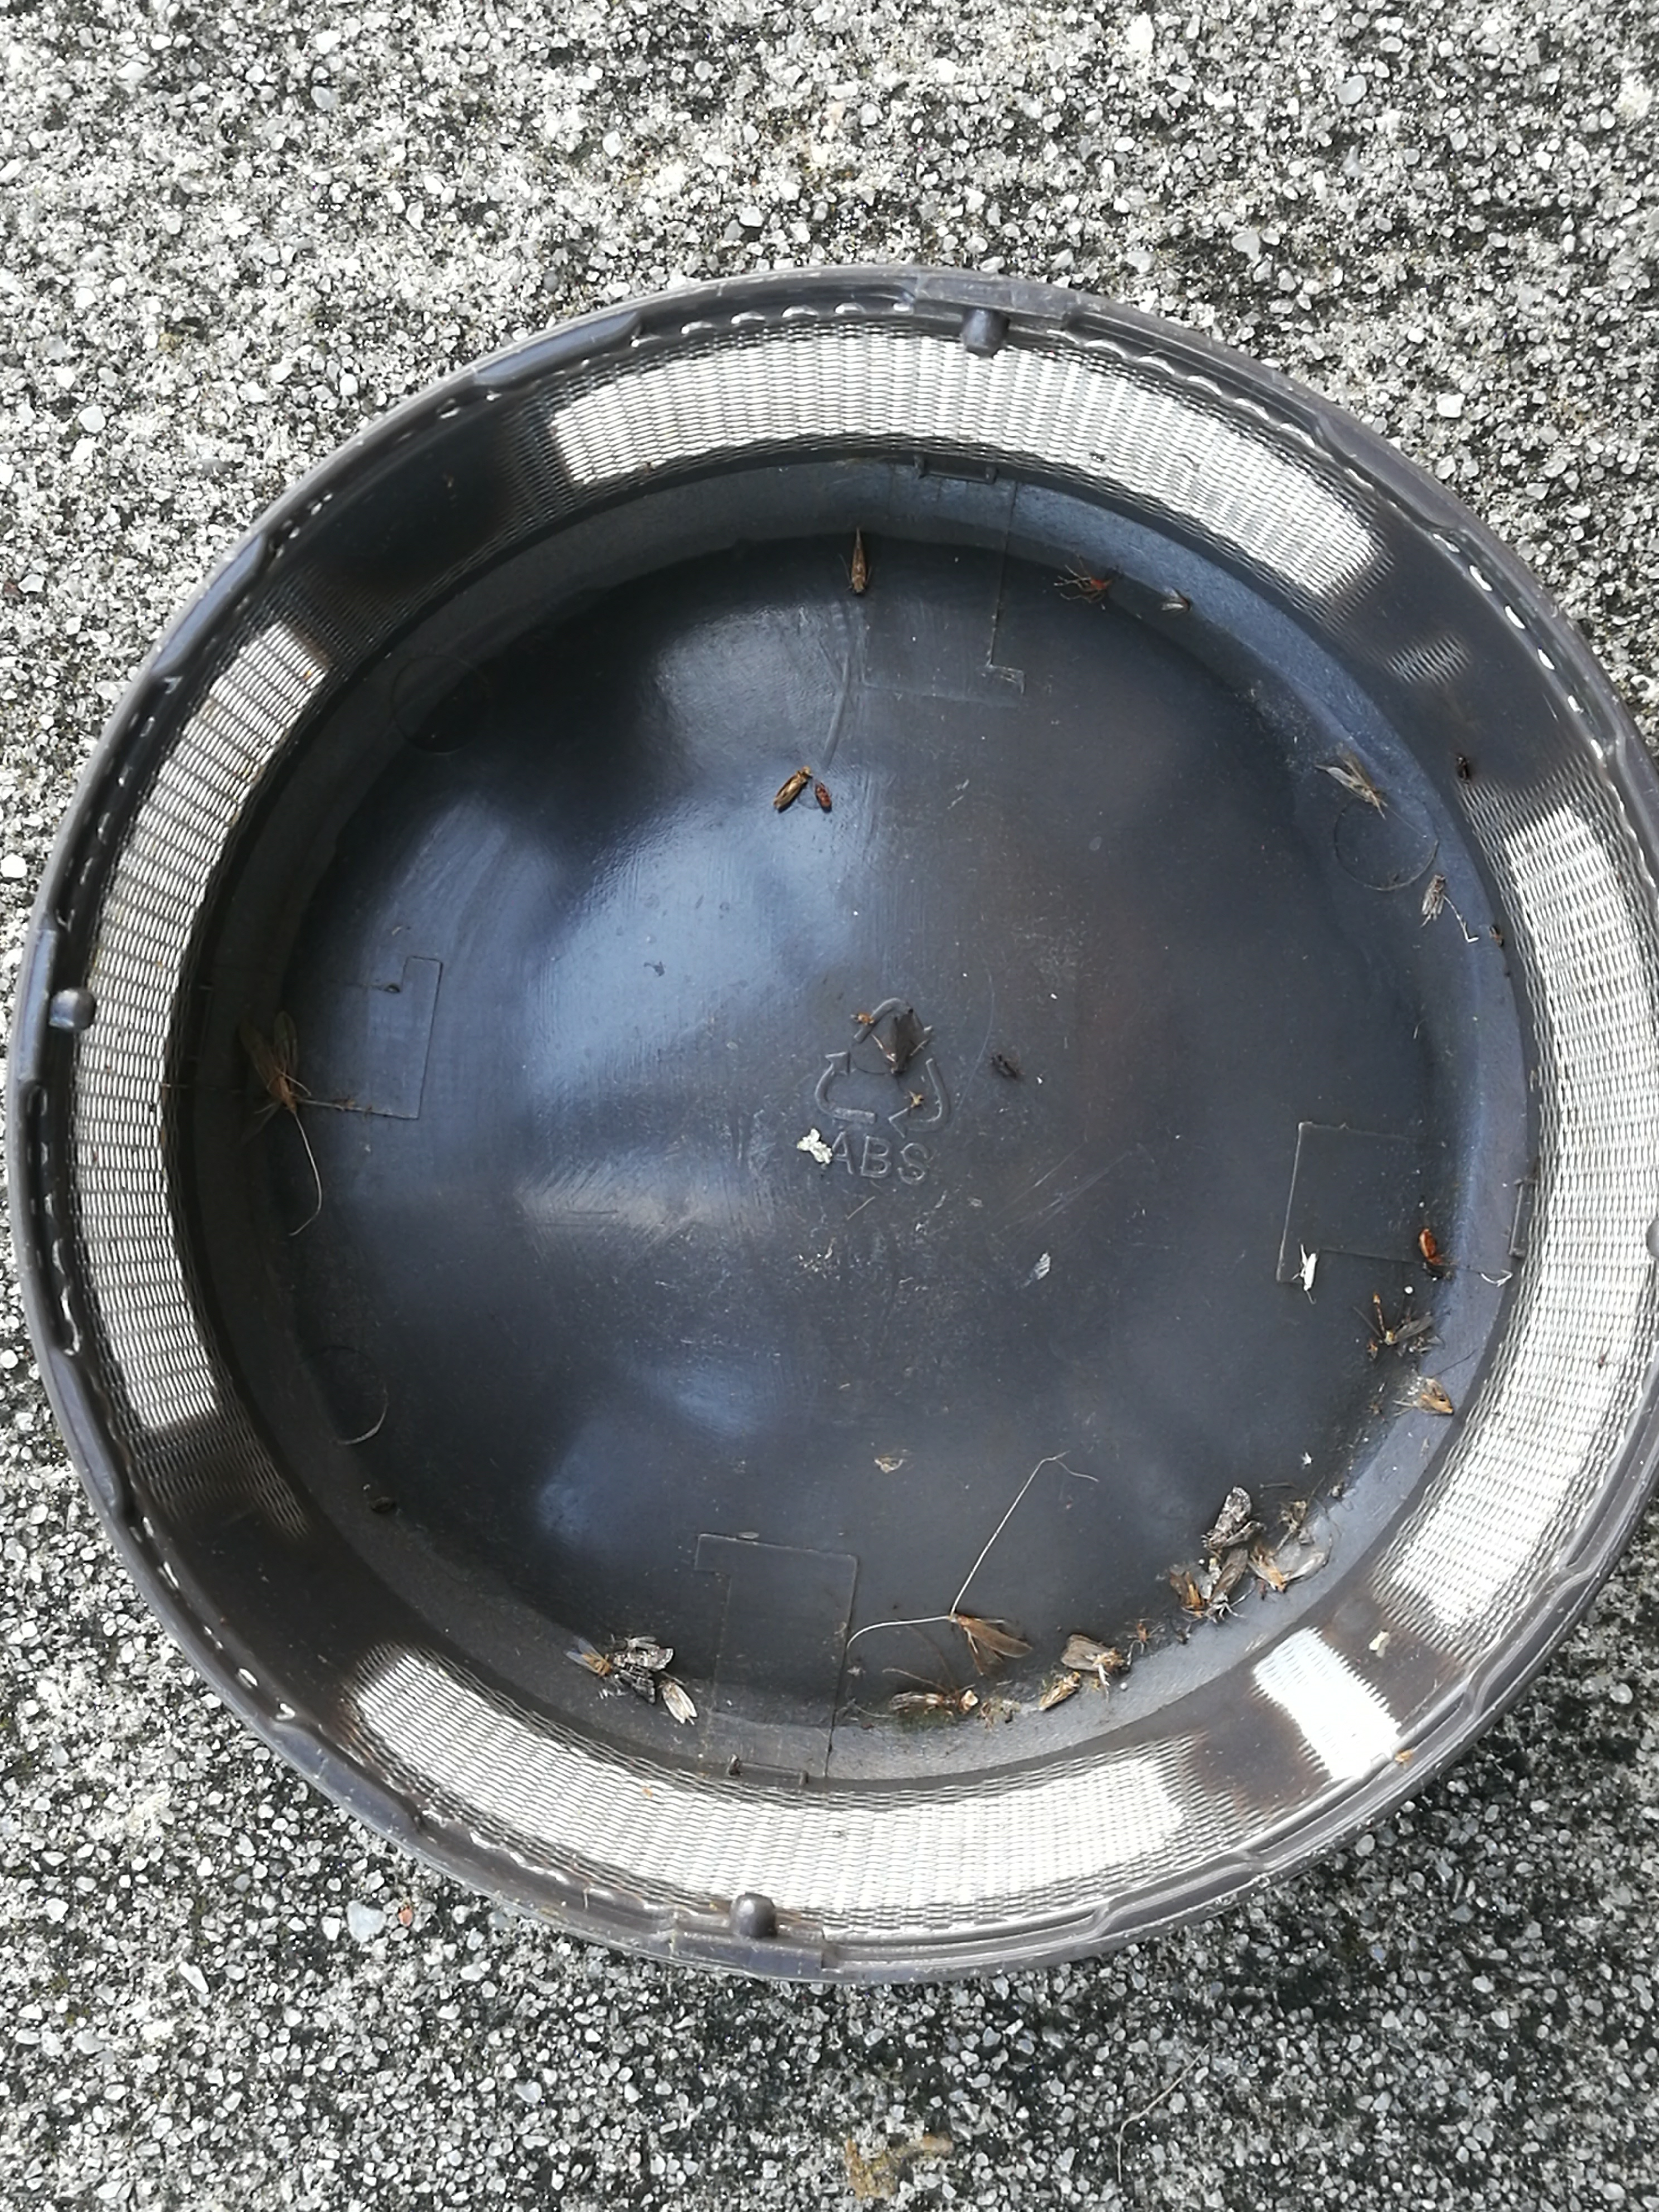mosquito: (950, 1615, 1032, 1656), (1326, 754, 1382, 805), (890, 1008, 917, 1075), (777, 768, 809, 810), (1042, 1674, 1079, 1709), (889, 1691, 955, 1710), (1171, 1566, 1199, 1609), (1211, 1566, 1237, 1602), (1424, 874, 1445, 913), (852, 531, 864, 594), (1303, 1254, 1317, 1291)
moth: (239, 1012, 300, 1113), (1182, 1547, 1246, 1611), (615, 1648, 673, 1703), (1209, 1489, 1265, 1547), (1060, 1634, 1127, 1672), (1403, 1374, 1453, 1416), (565, 1641, 610, 1677), (662, 1684, 699, 1726)
